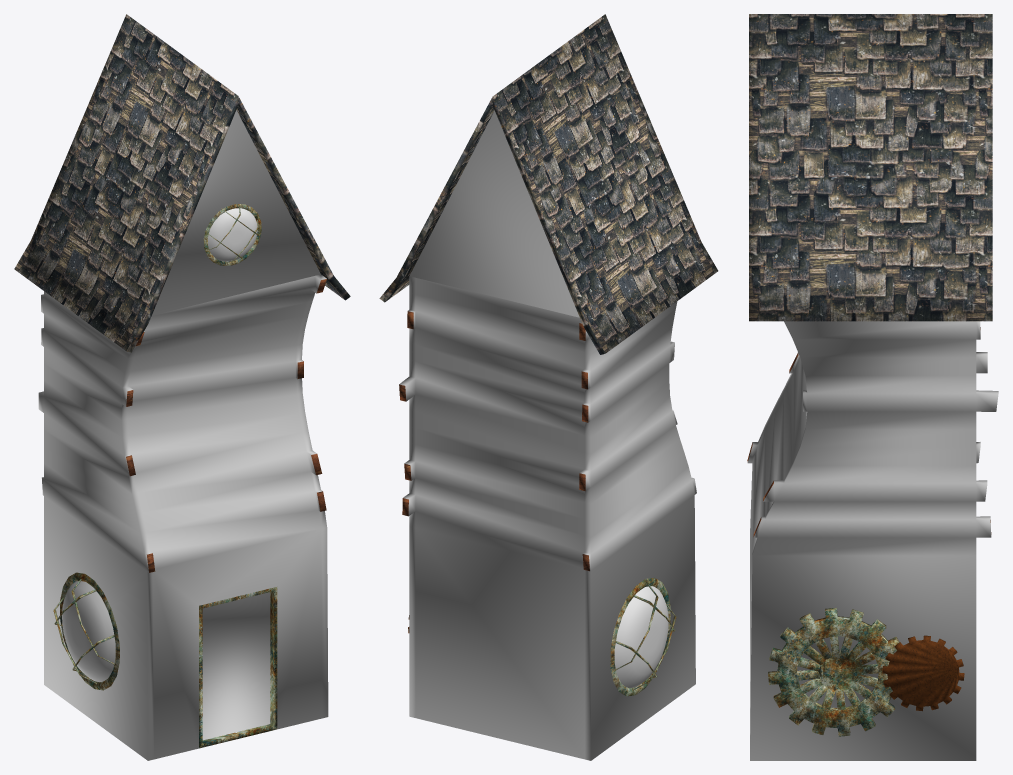
Rendered from Tall House.fbx.
3 views of the same model, side by side, from view 1: azimuth 30°, elevation 25°; view 2: azimuth 150°, elevation 25°; view 3: azimuth 270°, elevation 25° (orthographic). The views are drawn at different scales.
Visible parts, largest first — view 1: Gear (1); view 2: Gear (1); view 3: Gear (1).
Part boxes in pixels (<box>): Gear (1): <box>14,14,350,760</box>; Gear (1): <box>379,14,718,760</box>; Gear (1): <box>747,14,998,760</box>.
Size of the model in its own units: 249 by 682 by 222.
